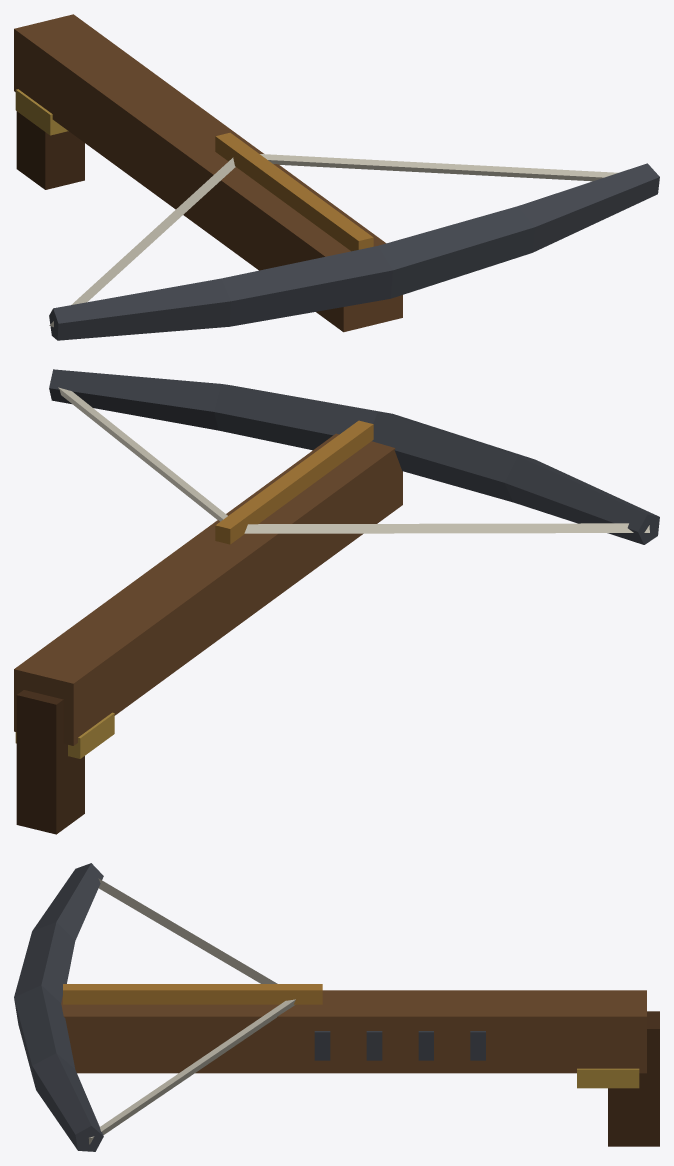
File: weapon_bow.glb
The picture shows the model from 3 angles, top to bottom: view 1: azimuth 30°, elevation 25°; view 2: azimuth 150°, elevation 25°; view 3: azimuth 270°, elevation 25°; orthographic projection. The views are drawn at different scales.
Visible parts, largest first — view 1: dwarf_weapon_bow; view 2: dwarf_weapon_bow; view 3: dwarf_weapon_bow.
Boxes of the visible parts, bbox=[...] form: dwarf_weapon_bow: bbox=[14, 14, 659, 340]; dwarf_weapon_bow: bbox=[14, 369, 659, 834]; dwarf_weapon_bow: bbox=[14, 863, 659, 1151].
Size of the model in its own units: 0.7272 by 0.1946 by 0.7465.
